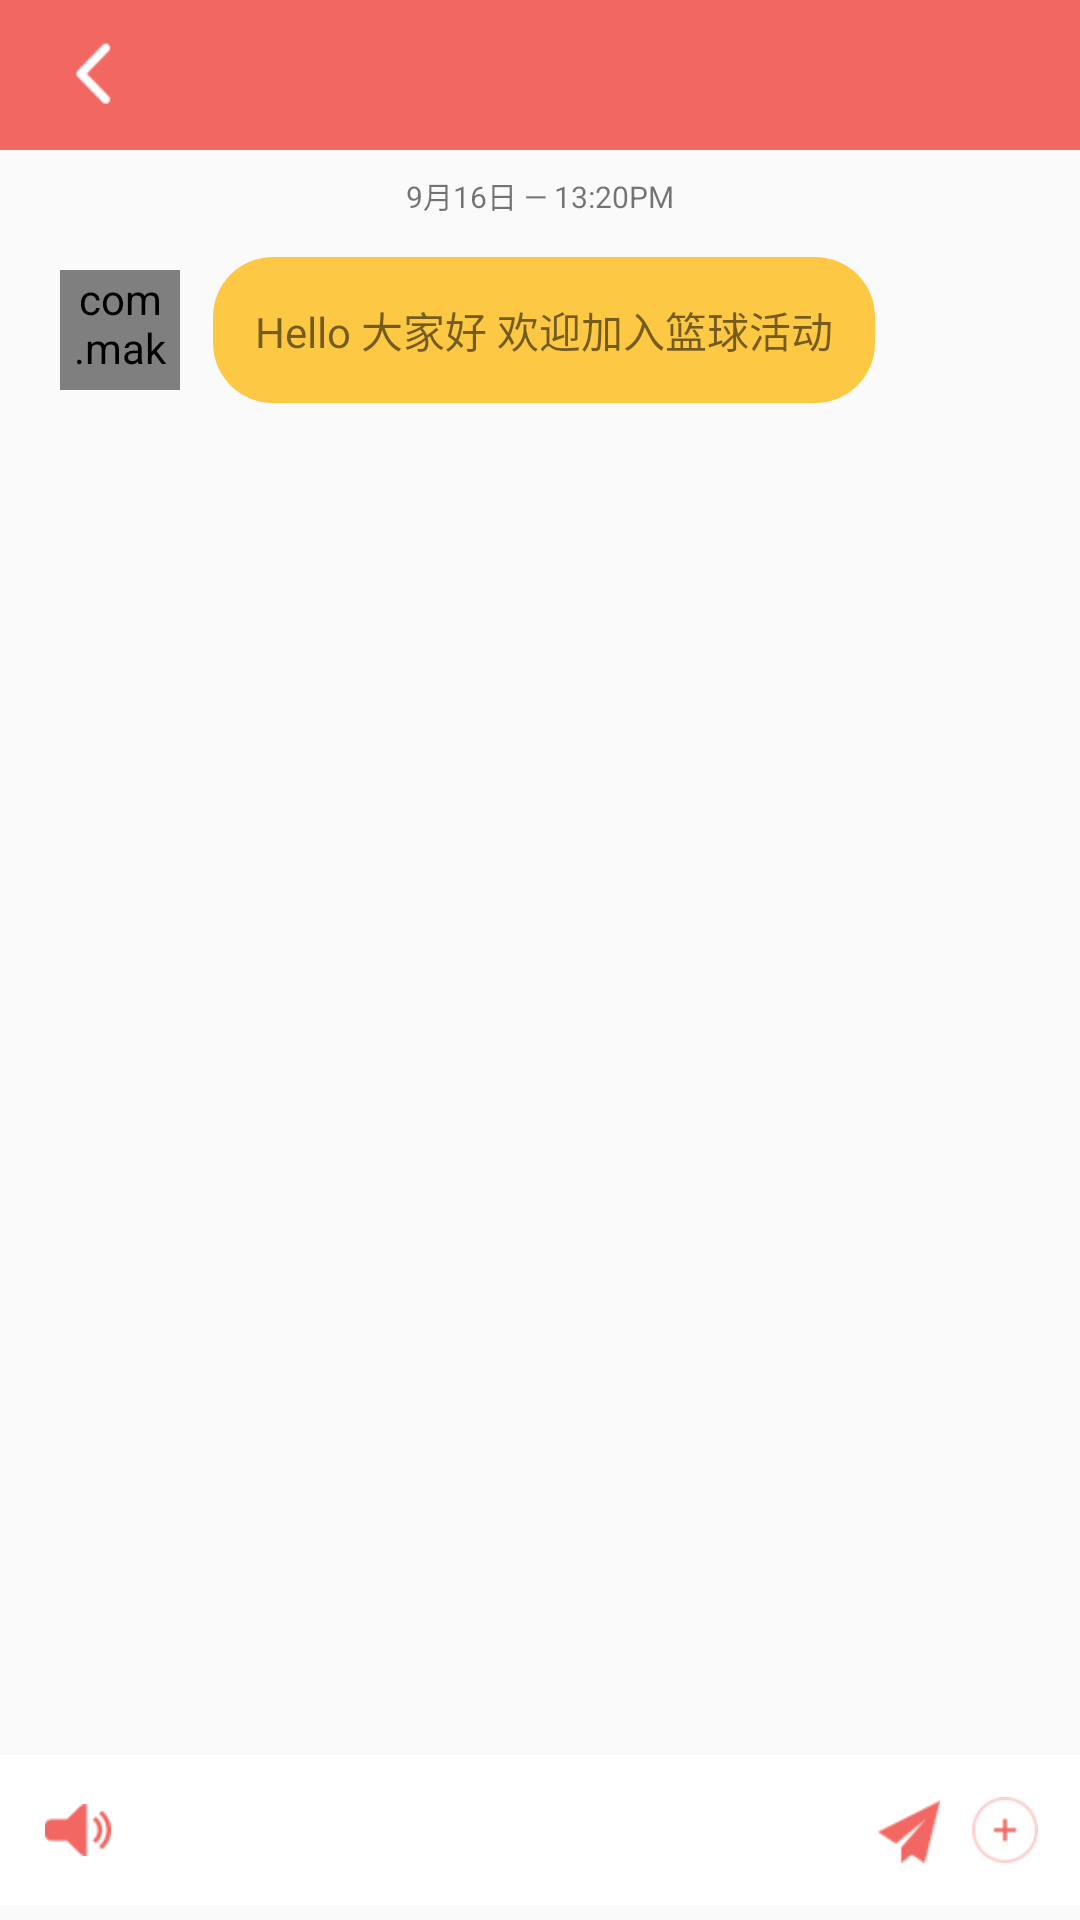

Where icons sit on this 1080*1920 app screen, as (x1, y1, x2, y2):
add: (972, 1797, 1038, 1863)
laba: (45, 1804, 111, 1856)
send: (878, 1800, 940, 1863)
